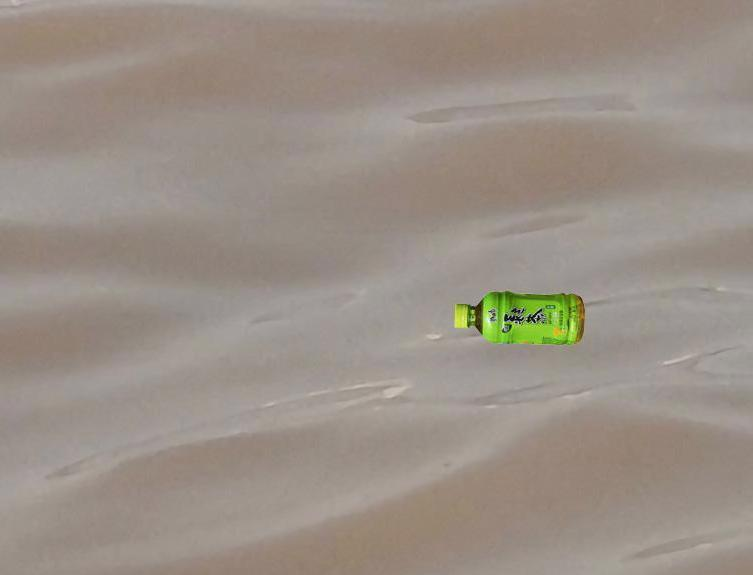Plastic: (449, 287, 592, 351)
